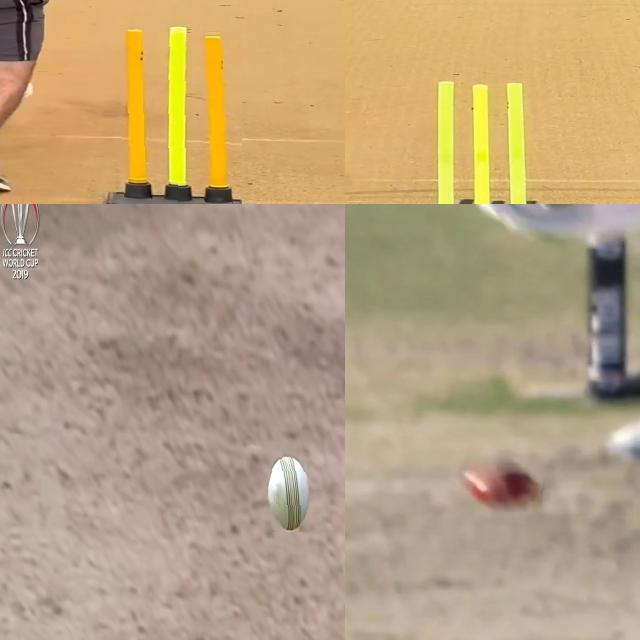Cricket ball: (462, 463, 543, 512), (266, 453, 309, 532)
Stumps: (105, 26, 241, 204), (418, 79, 547, 204)
